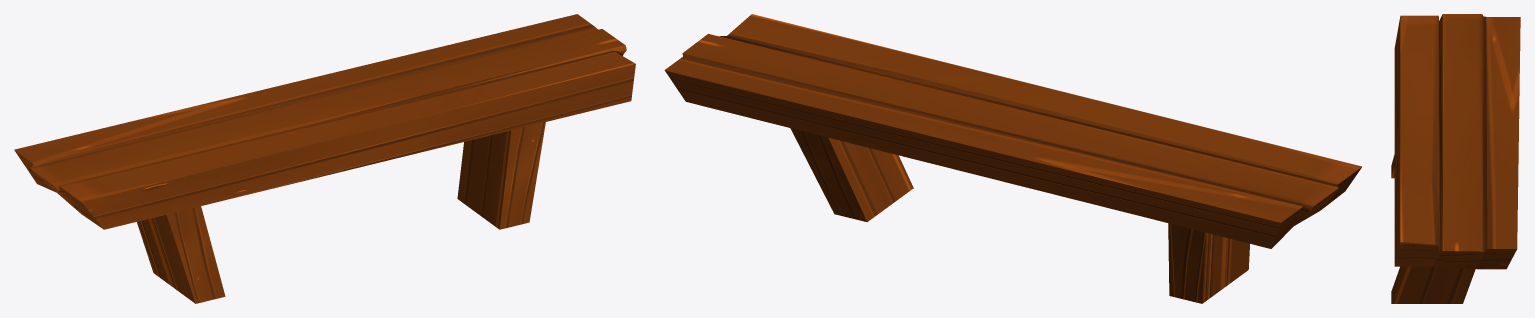
The model's file is forestBench.fbx.
The picture shows the model from 3 angles, left to right: view 1: azimuth 30°, elevation 25°; view 2: azimuth 150°, elevation 25°; view 3: azimuth 270°, elevation 25°; orthographic projection. The views are drawn at different scales.
Parts seen in each view (by area): view 1: ForestBench; view 2: ForestBench; view 3: ForestBench.
Part boxes in pixels (bbox=[...]): ForestBench: bbox=[14, 14, 635, 303]; ForestBench: bbox=[664, 14, 1361, 303]; ForestBench: bbox=[1391, 14, 1520, 303].
Size of the model in its own units: 388 by 82.64 by 89.59.
